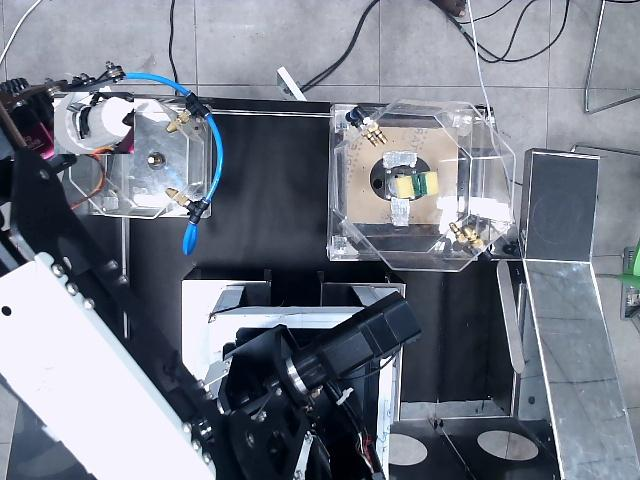cup: (54, 92, 134, 154)
